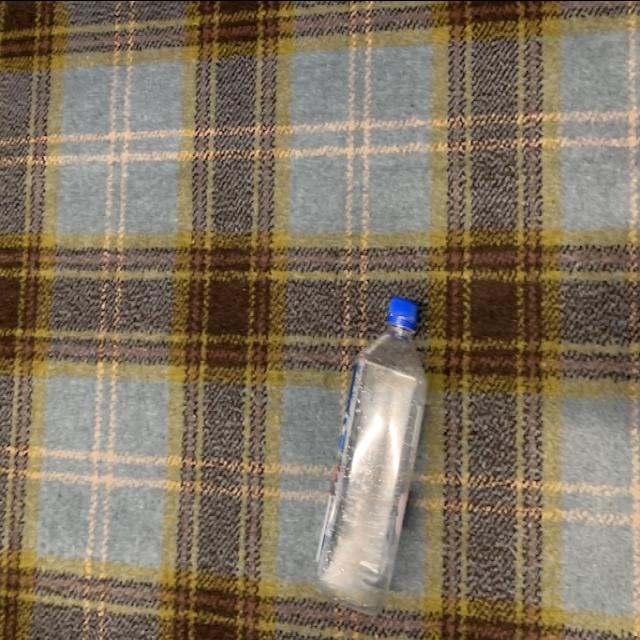PET: (312, 288, 440, 616)
